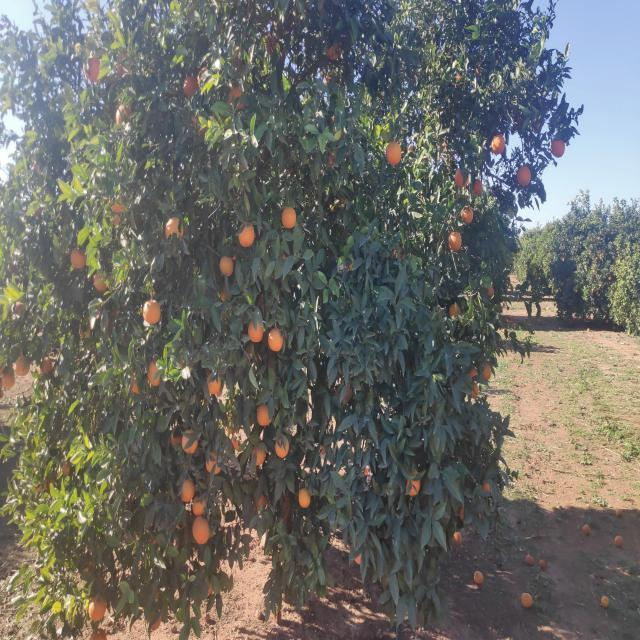Jeruk Sudah Matang: (192, 516, 210, 544), (166, 217, 183, 244), (142, 299, 160, 324), (88, 596, 106, 620), (238, 222, 254, 248), (182, 429, 198, 454), (229, 86, 244, 112), (406, 469, 421, 495), (84, 57, 100, 81), (116, 50, 132, 74), (386, 142, 402, 166), (269, 327, 284, 351), (248, 319, 264, 341), (206, 451, 221, 474), (182, 76, 198, 97), (180, 479, 195, 501), (116, 106, 132, 126), (70, 248, 86, 268), (15, 356, 30, 376), (193, 496, 208, 516), (282, 207, 296, 228), (94, 270, 108, 291), (148, 362, 161, 384), (207, 374, 221, 394), (518, 166, 532, 186), (252, 445, 266, 465), (171, 425, 183, 448), (455, 168, 469, 187), (258, 404, 270, 426), (220, 256, 233, 276), (551, 140, 565, 158), (448, 232, 462, 250), (266, 32, 278, 52), (276, 437, 288, 457), (492, 136, 505, 154), (198, 66, 208, 89), (38, 358, 52, 374), (2, 371, 15, 388), (462, 205, 474, 223), (298, 489, 310, 507), (328, 43, 340, 60), (59, 462, 70, 478), (472, 180, 483, 196), (12, 302, 24, 316), (256, 494, 266, 510), (470, 381, 479, 398), (450, 304, 460, 318), (484, 364, 492, 380), (453, 74, 463, 86), (532, 120, 540, 134), (355, 552, 362, 566), (207, 581, 213, 597), (232, 440, 241, 450), (484, 484, 492, 494), (488, 285, 494, 298), (470, 369, 478, 377), (320, 445, 326, 455), (460, 508, 464, 521), (608, 276, 612, 280), (596, 292, 598, 296), (576, 289, 578, 293), (596, 257, 598, 261), (599, 284, 601, 287), (589, 252, 591, 255), (598, 237, 600, 240), (560, 289, 562, 292), (562, 258, 564, 261), (593, 270, 595, 272), (600, 254, 602, 256)
